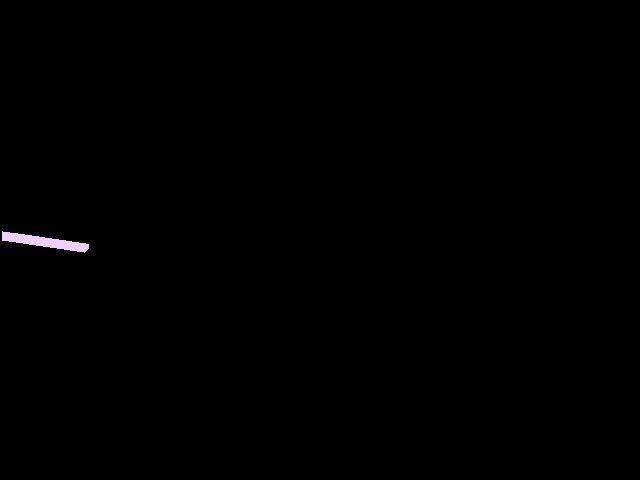Train: (2, 231, 88, 252)
